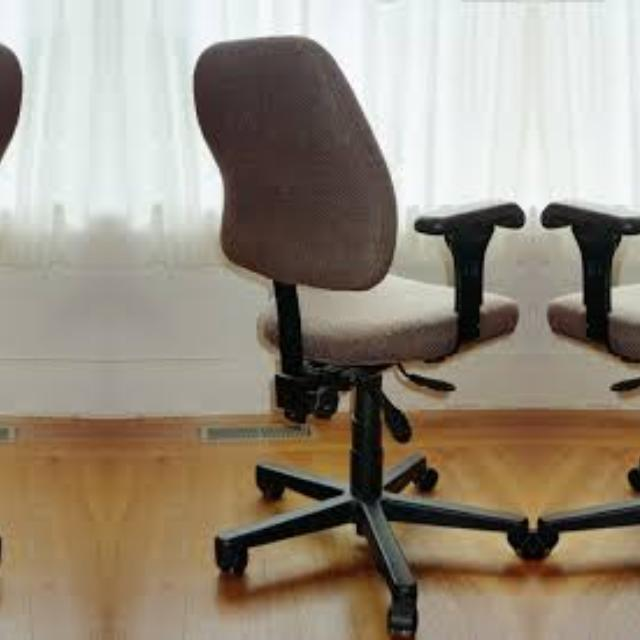obstacle: (173, 27, 533, 635), (533, 27, 640, 635), (0, 27, 41, 635)
